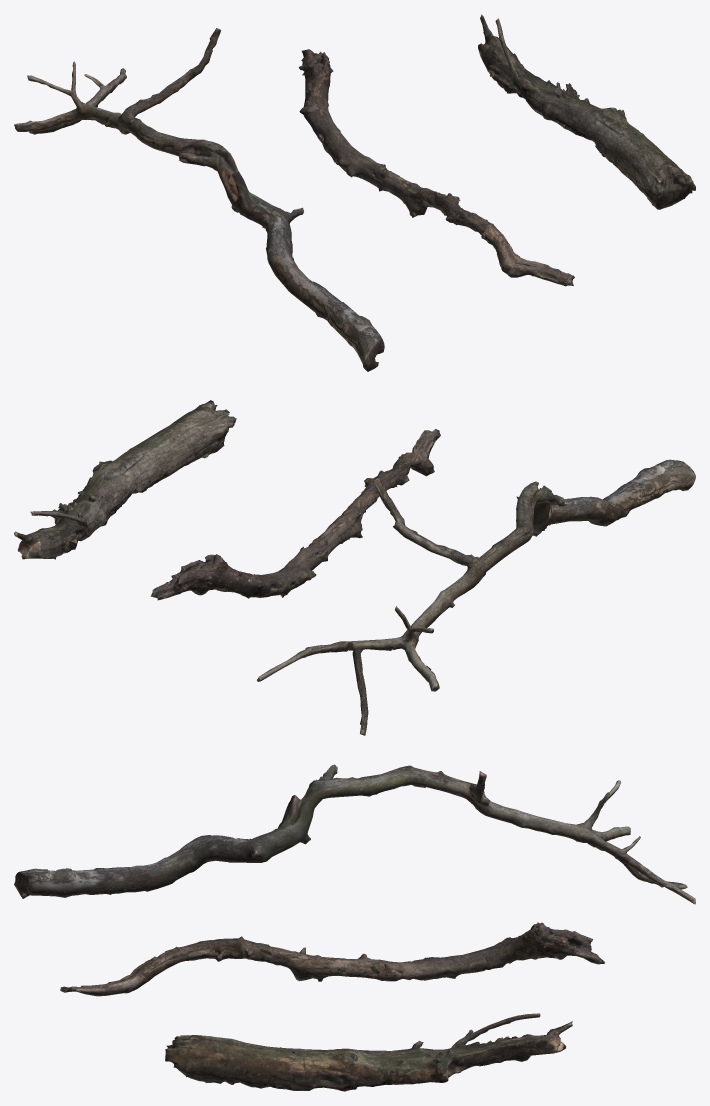
Rendered from dry_branches_medium_01.glb.
The picture shows the model from 3 angles, top to bottom: view 1: azimuth 30°, elevation 25°; view 2: azimuth 150°, elevation 25°; view 3: azimuth 270°, elevation 25°; orthographic projection. The views are drawn at different scales.
Parts seen in each view (by area): view 1: dry_branches_medium_01_a, dry_branches_medium_01_c, dry_branches_medium_01_b; view 2: dry_branches_medium_01_a, dry_branches_medium_01_c, dry_branches_medium_01_b; view 3: dry_branches_medium_01_a, dry_branches_medium_01_c, dry_branches_medium_01_b.
Boxes of the visible parts, <box> form: dry_branches_medium_01_a: <box>14,28,384,371</box>; dry_branches_medium_01_c: <box>478,14,695,209</box>; dry_branches_medium_01_b: <box>299,49,574,286</box>; dry_branches_medium_01_a: <box>257,459,695,735</box>; dry_branches_medium_01_c: <box>14,400,236,559</box>; dry_branches_medium_01_b: <box>150,429,440,600</box>; dry_branches_medium_01_a: <box>14,764,695,904</box>; dry_branches_medium_01_c: <box>165,1013,572,1091</box>; dry_branches_medium_01_b: <box>60,922,604,996</box>.
Bounding box in the file's own units: 1.06 × 0.341 × 1.3.
Materials: 1 (1 with a texture image).
